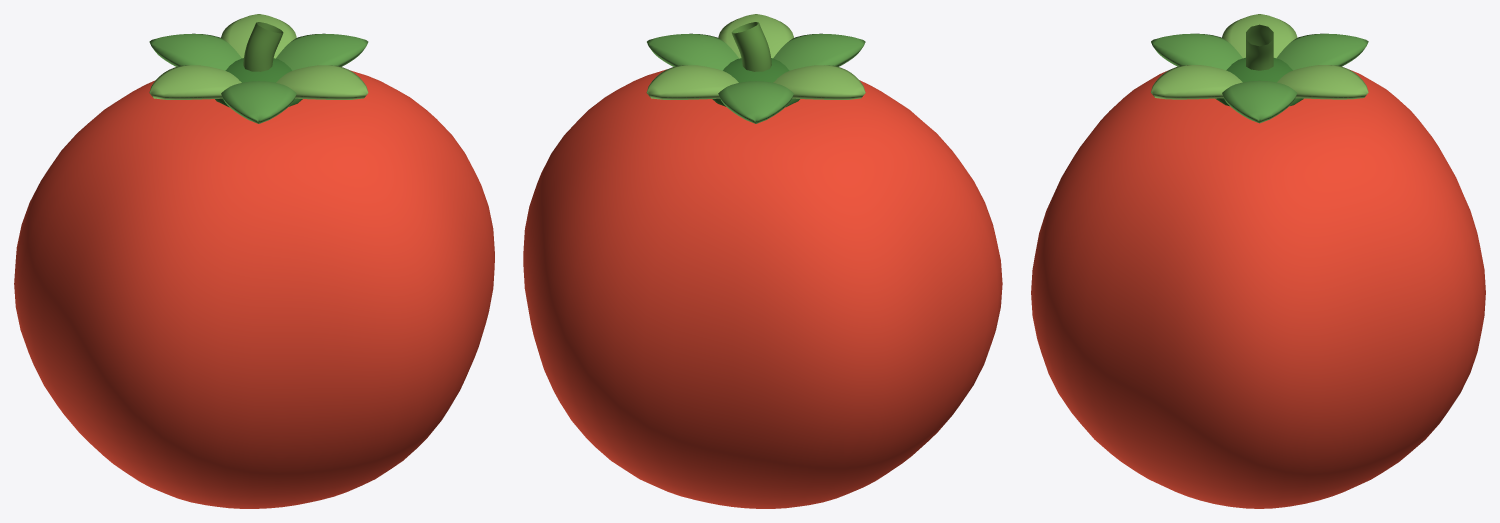
Rendered from tomato.glb.
3 views of the same model, side by side, from view 1: azimuth 30°, elevation 25°; view 2: azimuth 150°, elevation 25°; view 3: azimuth 270°, elevation 25° (orthographic).
Parts seen in each view (by area): view 1: Tomato | gently lobed ripe fruit.001, Tomato | pointed calyx.008, Tomato | pointed calyx.010, Tomato | pointed calyx.011, Tomato | pointed calyx.009, Tomato | pointed calyx.007, Tomato | short stem.001, Tomato | pointed calyx.006, Tomato | calyx center.001; view 2: Tomato | gently lobed ripe fruit.001, Tomato | pointed calyx.006, Tomato | pointed calyx.008, Tomato | pointed calyx.007, Tomato | pointed calyx.011, Tomato | pointed calyx.009, Tomato | short stem.001, Tomato | pointed calyx.010, Tomato | calyx center.001; view 3: Tomato | gently lobed ripe fruit.001, Tomato | pointed calyx.006, Tomato | pointed calyx.010, Tomato | pointed calyx.009, Tomato | pointed calyx.007, Tomato | pointed calyx.011, Tomato | pointed calyx.008, Tomato | short stem.001, Tomato | calyx center.001.
Part boxes in pixels (x1=…): Tomato | gently lobed ripe fruit.001: x1=14, y1=70, x2=494, y2=508; Tomato | pointed calyx.008: x1=149, y1=65, x2=241, y2=99; Tomato | pointed calyx.010: x1=276, y1=65, x2=368, y2=99; Tomato | pointed calyx.011: x1=276, y1=33, x2=368, y2=70; Tomato | pointed calyx.009: x1=149, y1=33, x2=241, y2=70; Tomato | pointed calyx.007: x1=221, y1=81, x2=296, y2=123; Tomato | short stem.001: x1=243, y1=22, x2=283, y2=71; Tomato | pointed calyx.006: x1=221, y1=14, x2=296, y2=58; Tomato | calyx center.001: x1=215, y1=58, x2=302, y2=107; Tomato | gently lobed ripe fruit.001: x1=523, y1=69, x2=1002, y2=508; Tomato | pointed calyx.006: x1=646, y1=65, x2=738, y2=99; Tomato | pointed calyx.008: x1=773, y1=65, x2=865, y2=99; Tomato | pointed calyx.007: x1=773, y1=33, x2=865, y2=70; Tomato | pointed calyx.011: x1=647, y1=33, x2=738, y2=70; Tomato | pointed calyx.009: x1=718, y1=81, x2=793, y2=123; Tomato | short stem.001: x1=731, y1=22, x2=771, y2=71; Tomato | pointed calyx.010: x1=718, y1=14, x2=793, y2=58; Tomato | calyx center.001: x1=712, y1=58, x2=799, y2=106; Tomato | gently lobed ripe fruit.001: x1=1031, y1=69, x2=1485, y2=508; Tomato | pointed calyx.006: x1=1277, y1=65, x2=1368, y2=99; Tomato | pointed calyx.010: x1=1151, y1=65, x2=1242, y2=99; Tomato | pointed calyx.009: x1=1276, y1=33, x2=1368, y2=70; Tomato | pointed calyx.007: x1=1151, y1=33, x2=1242, y2=70; Tomato | pointed calyx.011: x1=1222, y1=80, x2=1297, y2=123; Tomato | pointed calyx.008: x1=1222, y1=14, x2=1297, y2=58; Tomato | short stem.001: x1=1246, y1=24, x2=1273, y2=70; Tomato | calyx center.001: x1=1215, y1=57, x2=1303, y2=106.
Size of the model in its own units: 1.16 by 1.21 by 1.09.
